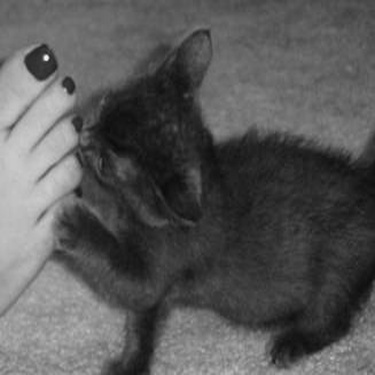cat: (55, 1, 372, 355)
